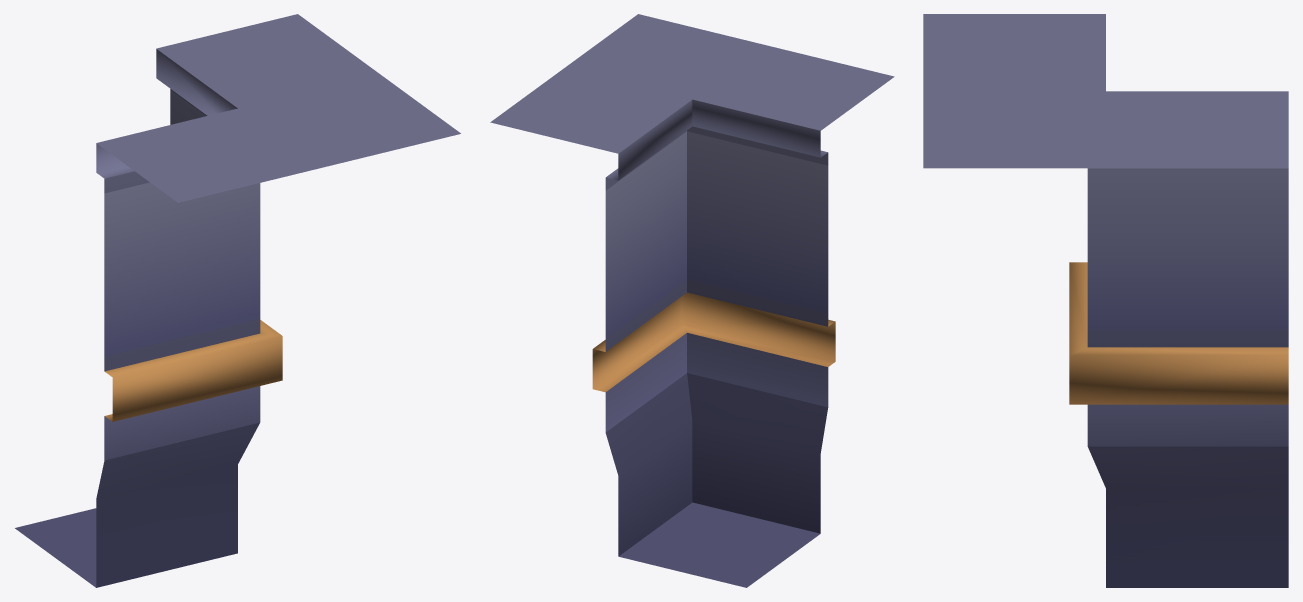
The model's file is structure-corner-inner.glb.
The picture shows the model from 3 angles, left to right: view 1: azimuth 30°, elevation 25°; view 2: azimuth 150°, elevation 25°; view 3: azimuth 270°, elevation 25°; orthographic projection. The views are drawn at different scales.
Parts seen in each view (by area): view 1: structure-corner-inner; view 2: structure-corner-inner; view 3: structure-corner-inner.
Part boxes in pixels (x1=…): structure-corner-inner: x1=15, y1=14, x2=460, y2=587; structure-corner-inner: x1=490, y1=14, x2=894, y2=587; structure-corner-inner: x1=923, y1=14, x2=1288, y2=587.
Size of the model in its own units: 2 by 3 by 2.
